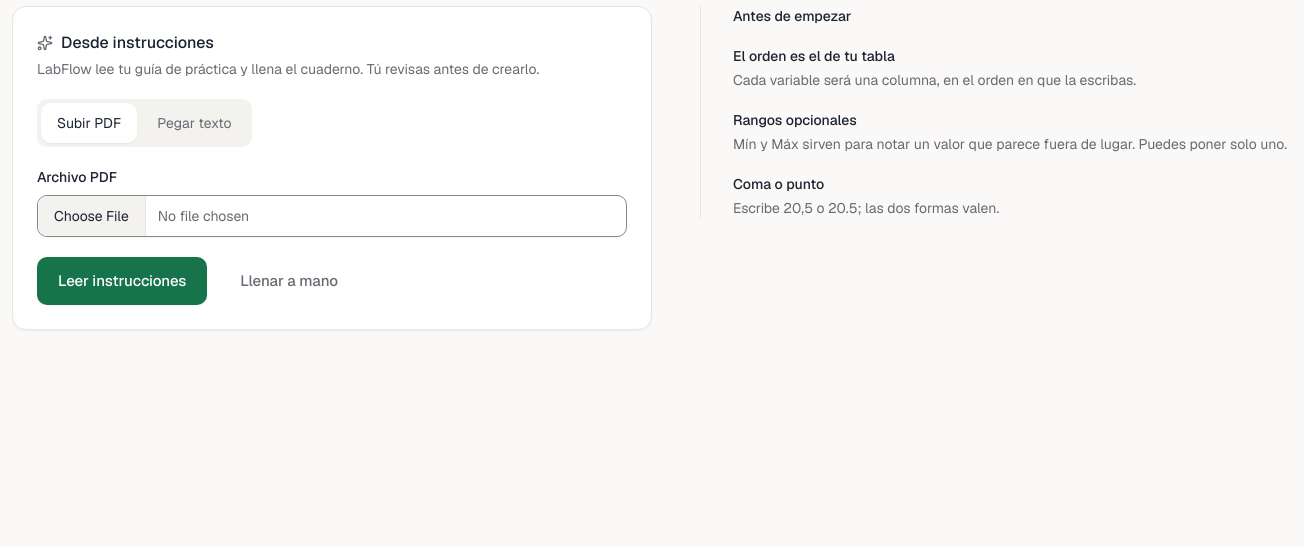
a read (AC-21, AC-23, AC-24, AC-26) › says how many it found when it kept 12
Click the radio button labelled "Pegar texto" at [194, 123], box [157, 114, 232, 132]
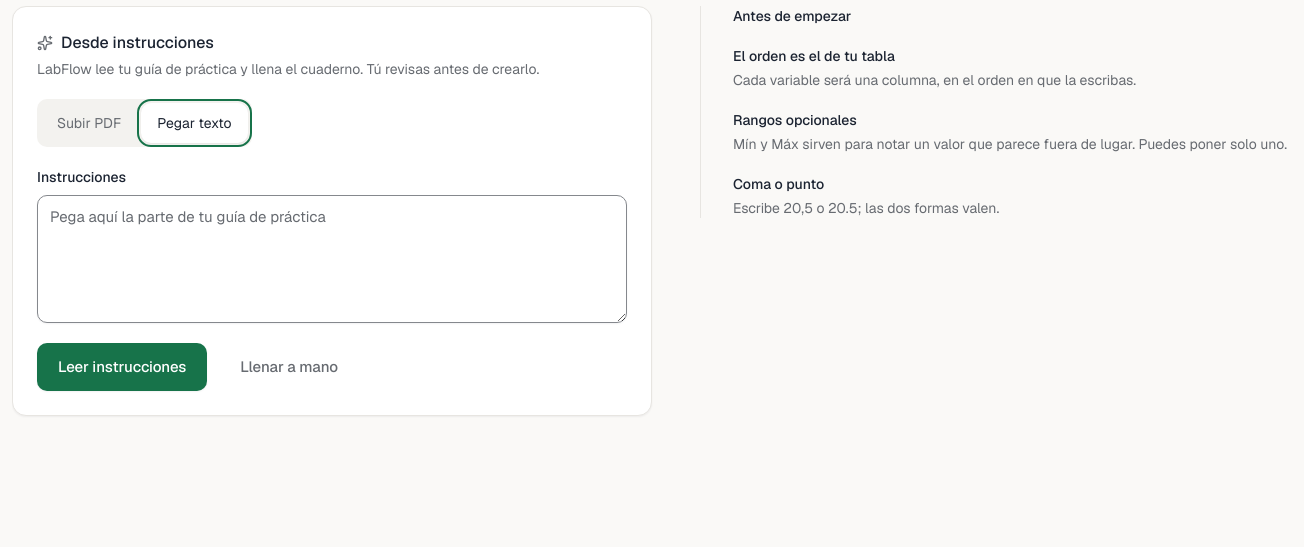
Click the text box labelled "Instrucciones" at [332, 259], box [37, 195, 627, 323]
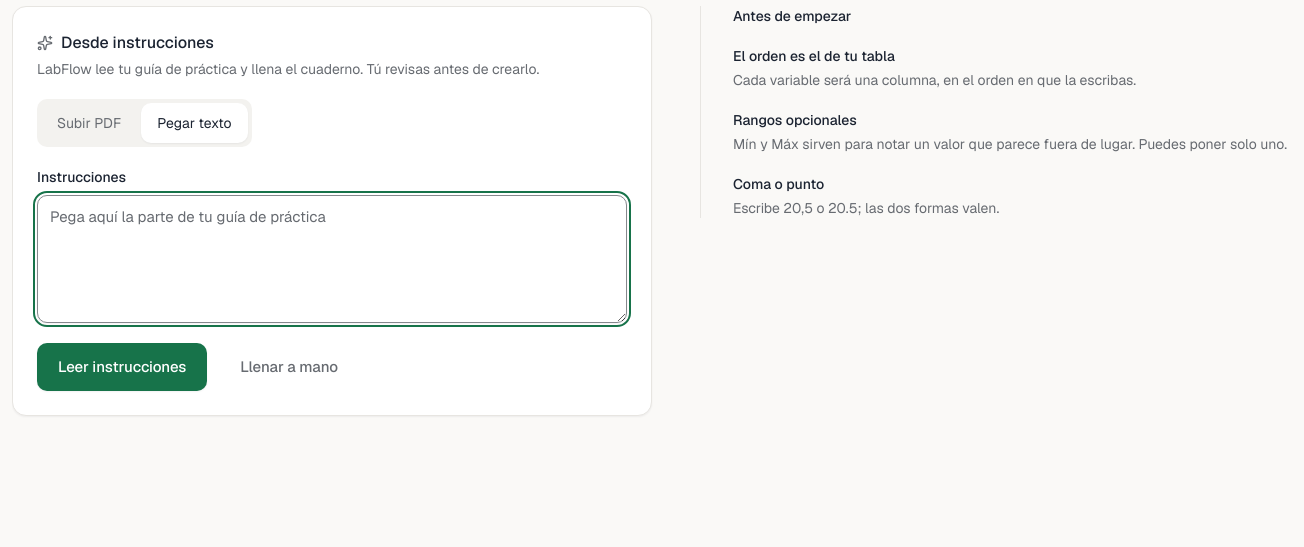
Type keys "Práctica 3. Mida la temperatura (entre 40 y 80 °C) y el rendimiento en %."
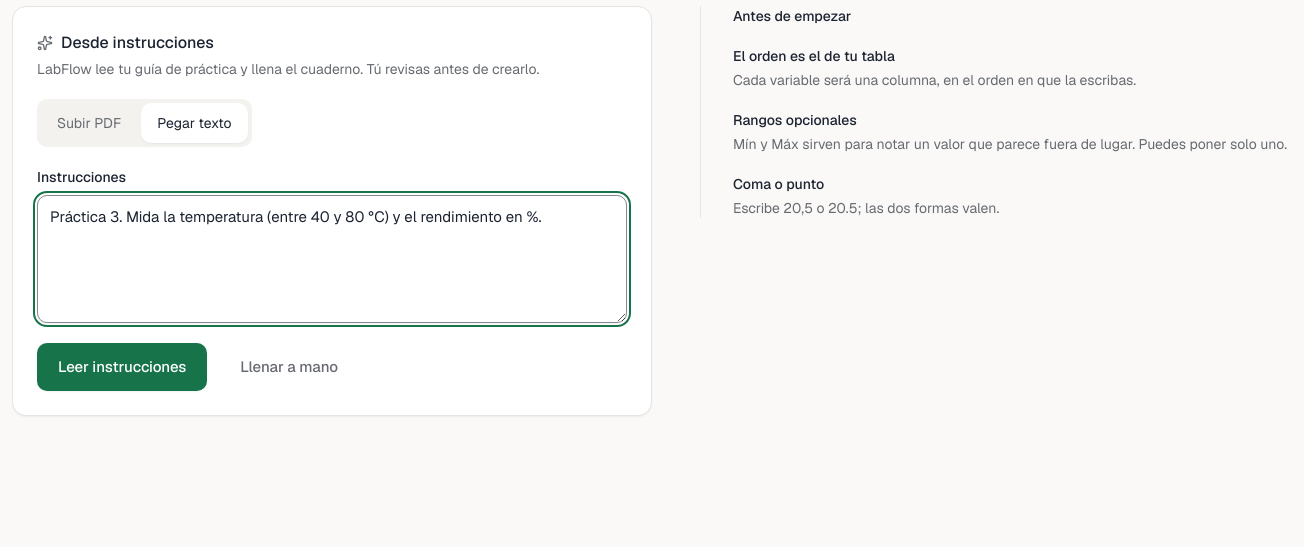
Click the button "Leer instrucciones" at [122, 367], box [37, 343, 207, 391]
(page scrolled)
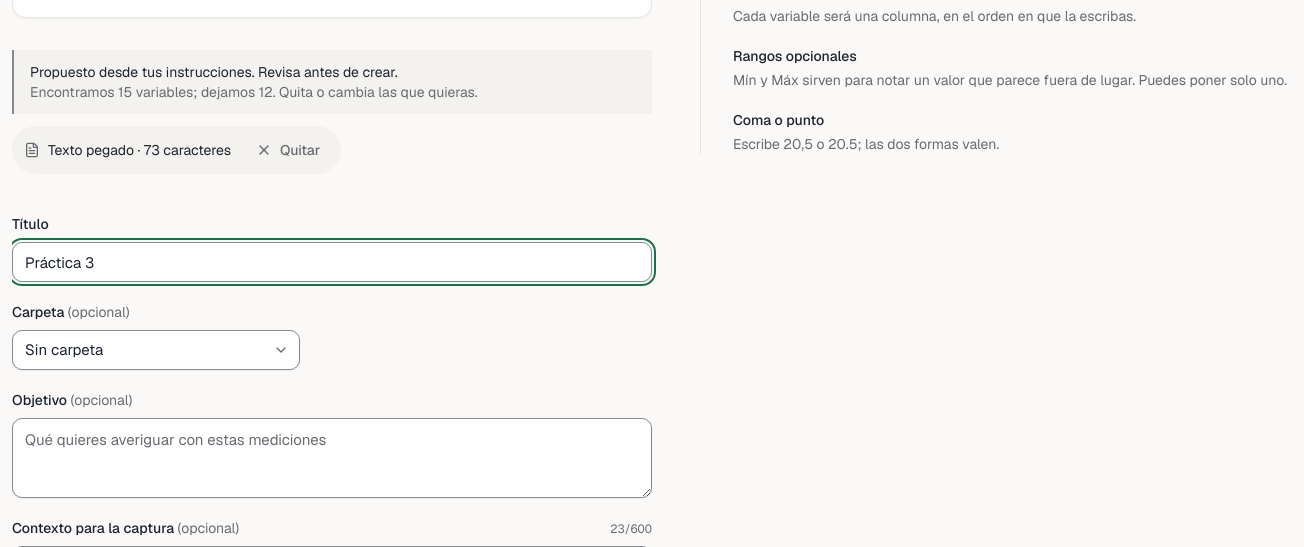
Expected: the text "Encontramos 15 variables; dejamos 12. Quita o cambia las que quieras." is shown, [30, 83, 478, 101]
